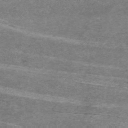finishing roll printing: (0, 23, 120, 48), (0, 64, 124, 86), (8, 49, 123, 70), (0, 86, 84, 105)
